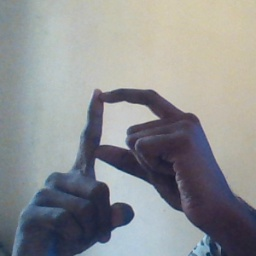D: (61, 78, 196, 206)
